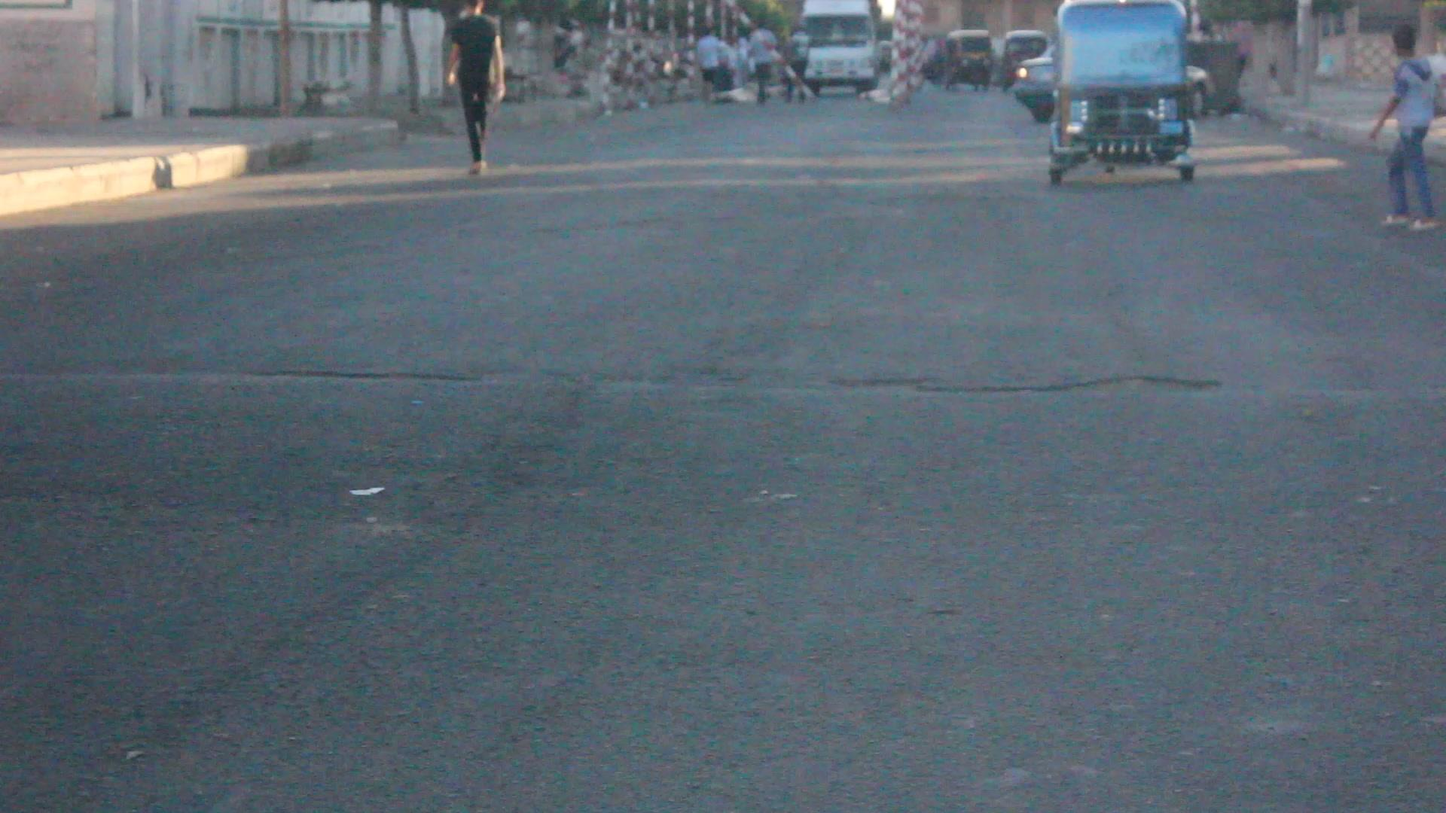Bump: (17, 367, 1446, 542)
Pothole: (834, 352, 1229, 410), (269, 359, 518, 397)
